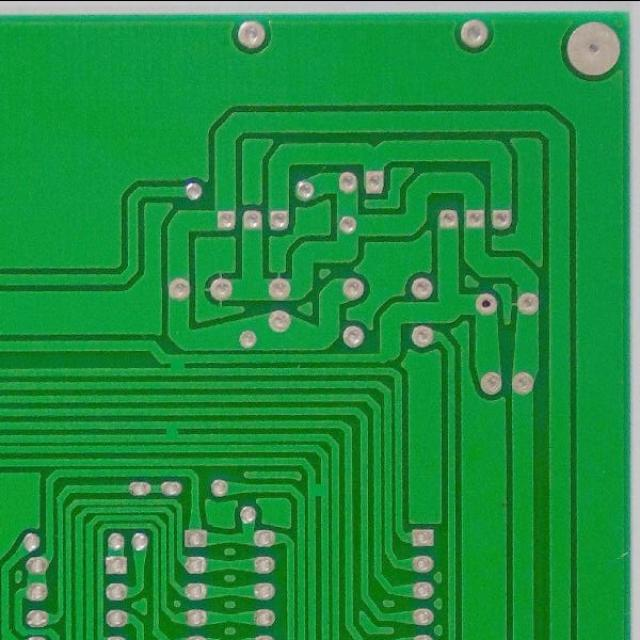Missing_Hole: (474, 291, 499, 316)
Short_Circuit: (163, 350, 193, 380), (303, 476, 332, 506), (159, 416, 187, 446)
